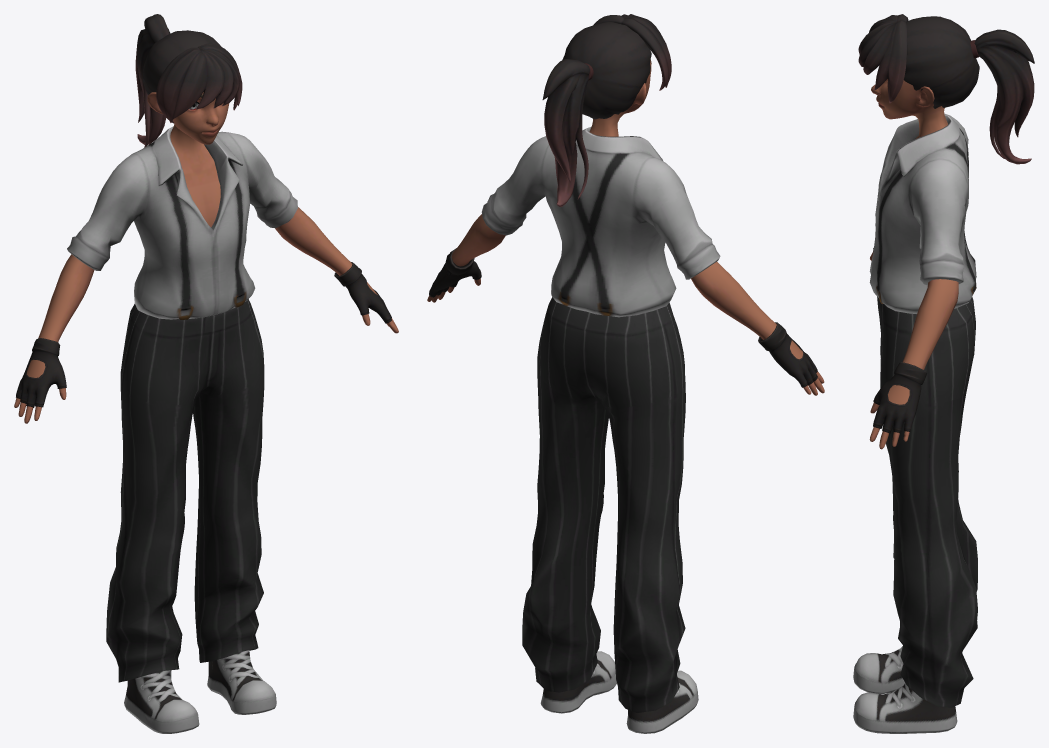
The model's file is StaffMexicanWoman_Mesh.obj.
3 renders of one model, left to right at view 1: azimuth 30°, elevation 25°; view 2: azimuth 150°, elevation 25°; view 3: azimuth 270°, elevation 25°, orthographic. The views are drawn at different scales.
Parts seen in each view (by area): view 1: StaffMexicanWoman_Mesh_0; view 2: StaffMexicanWoman_Mesh_0; view 3: StaffMexicanWoman_Mesh_0.
Part boxes in pixels (x1,y1,x2,y2): StaffMexicanWoman_Mesh_0: (14,14,398,733); StaffMexicanWoman_Mesh_0: (427,14,824,733); StaffMexicanWoman_Mesh_0: (853,14,1034,733).
Size of the model in its own units: 1.06 by 1.8 by 0.4312.
1 material, 1 textured.
